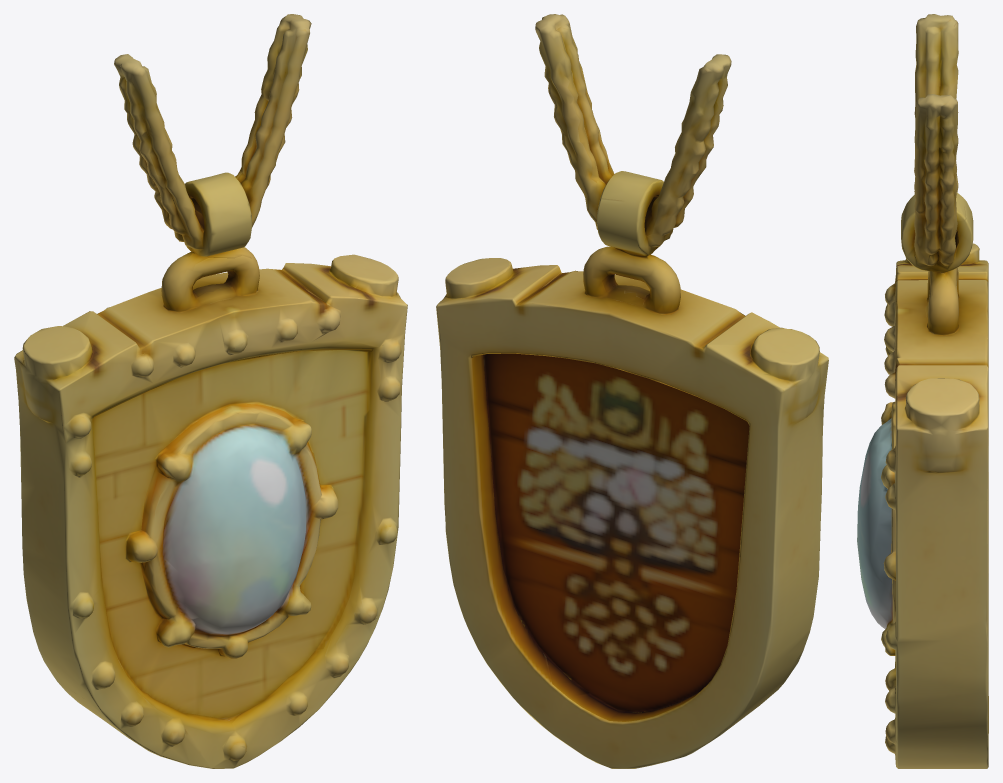
The picture shows the model from 3 angles, left to right: view 1: azimuth 30°, elevation 25°; view 2: azimuth 150°, elevation 25°; view 3: azimuth 270°, elevation 25°; orthographic projection.
Parts seen in each view (by area): view 1: citadel-amulet; view 2: citadel-amulet; view 3: citadel-amulet.
Boxes of the visible parts, <box> form: citadel-amulet: <box>14,14,407,768</box>; citadel-amulet: <box>436,14,828,768</box>; citadel-amulet: <box>857,14,988,768</box>.
Size of the model in its own units: 0.0924 by 0.1736 by 0.0294.
1 material, 1 textured.
